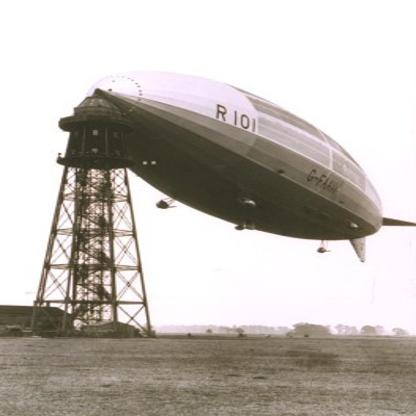Airship: (85, 70, 416, 267)
